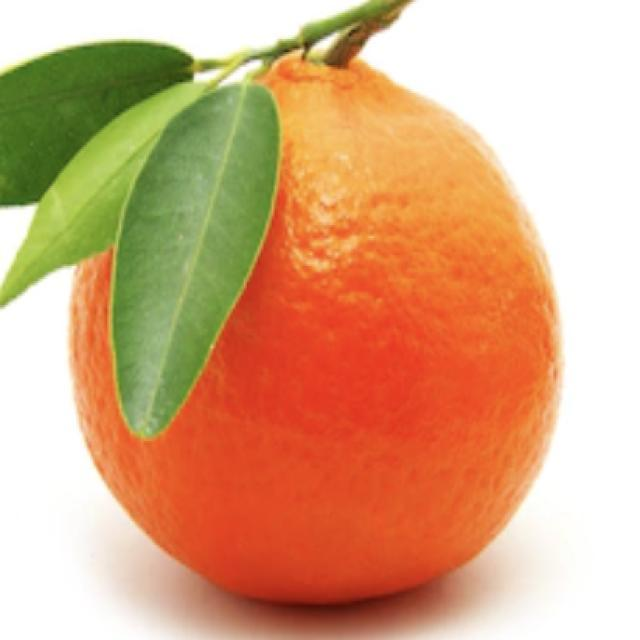Orange: (66, 50, 563, 607)
